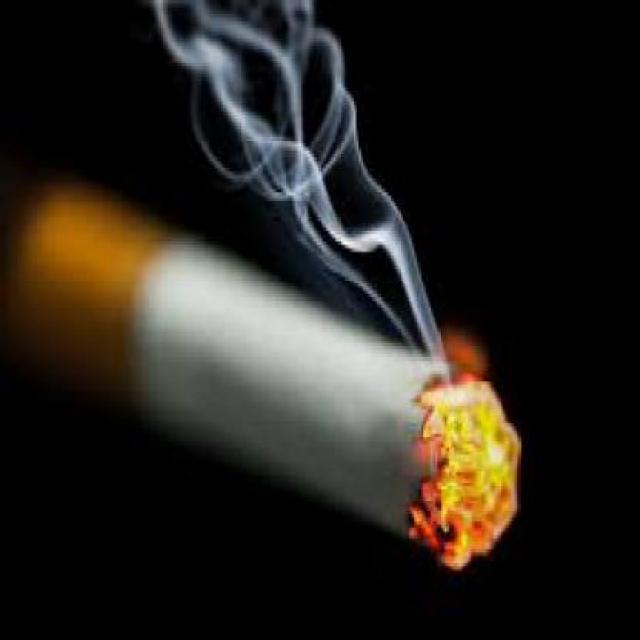cigarette: (8, 146, 524, 574)
